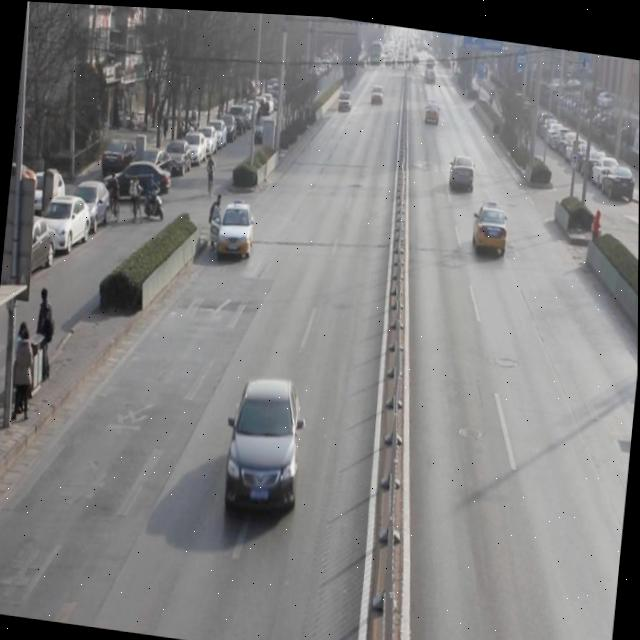car: (223, 372, 307, 521), (213, 198, 258, 261), (469, 195, 511, 254), (445, 146, 480, 195)
